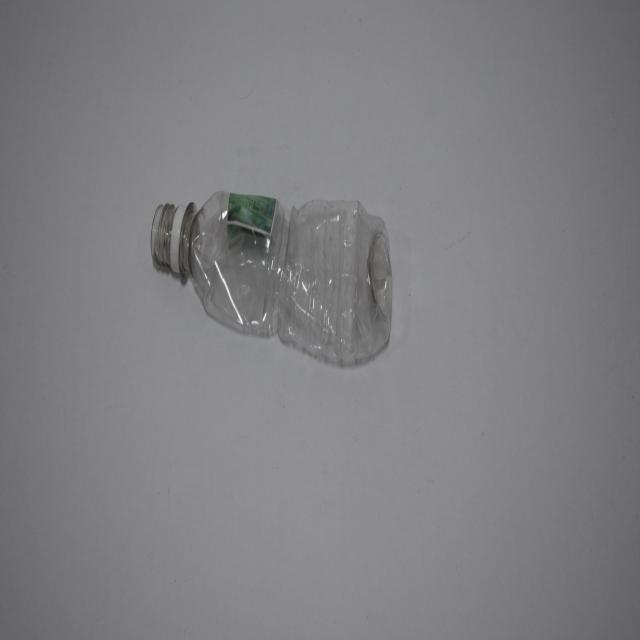plastic: (145, 188, 396, 378)
